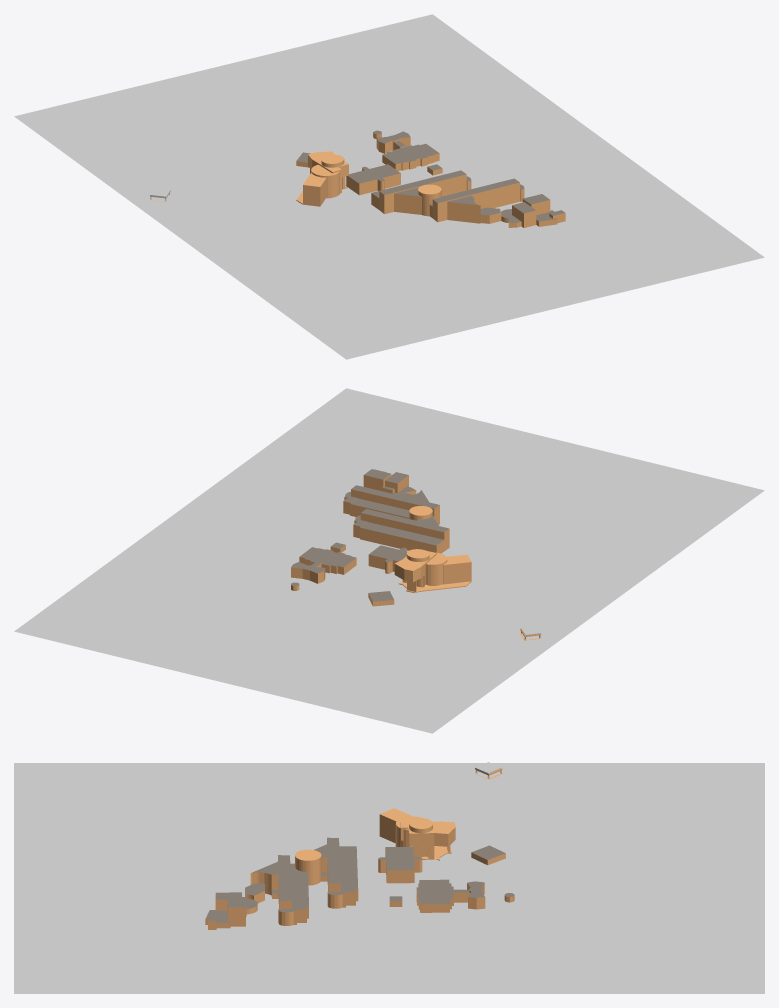
The picture shows the model from 3 angles, top to bottom: view 1: azimuth 30°, elevation 25°; view 2: azimuth 150°, elevation 25°; view 3: azimuth 270°, elevation 25°; orthographic projection. The views are drawn at different scales.
Visible parts, largest first — view 1: Plano, Cubo010, Cubo010_1; view 2: Plano, Cubo010, Cubo010_1; view 3: Plano, Cubo010, Cubo010_1.
Boxes of the visible parts, x1,y1,x2,y2 form: Plano: (14, 14, 764, 359); Cubo010: (150, 132, 565, 227); Cubo010_1: (296, 130, 565, 222); Plano: (14, 388, 764, 733); Cubo010: (291, 474, 541, 640); Cubo010_1: (291, 469, 449, 601); Plano: (14, 763, 764, 993); Cubo010: (205, 768, 514, 929); Cubo010_1: (205, 837, 514, 923).
Bounding box in the file's own units: 400 × 25.51 × 550.
